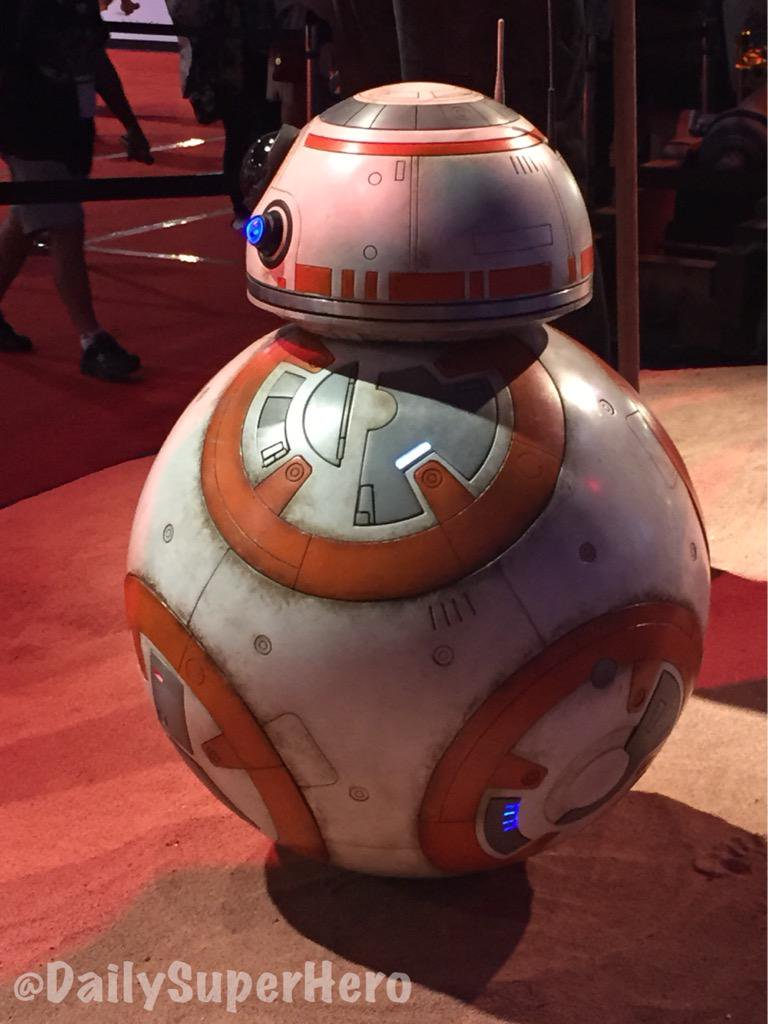bb8: (123, 81, 711, 877)
